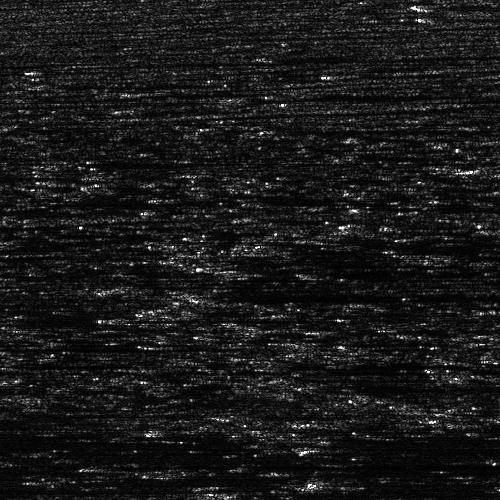object: (450, 161, 500, 174), (296, 444, 327, 449), (203, 292, 214, 303), (491, 136, 500, 143)
shadow: (0, 440, 481, 449), (209, 292, 379, 303), (312, 444, 393, 449)
